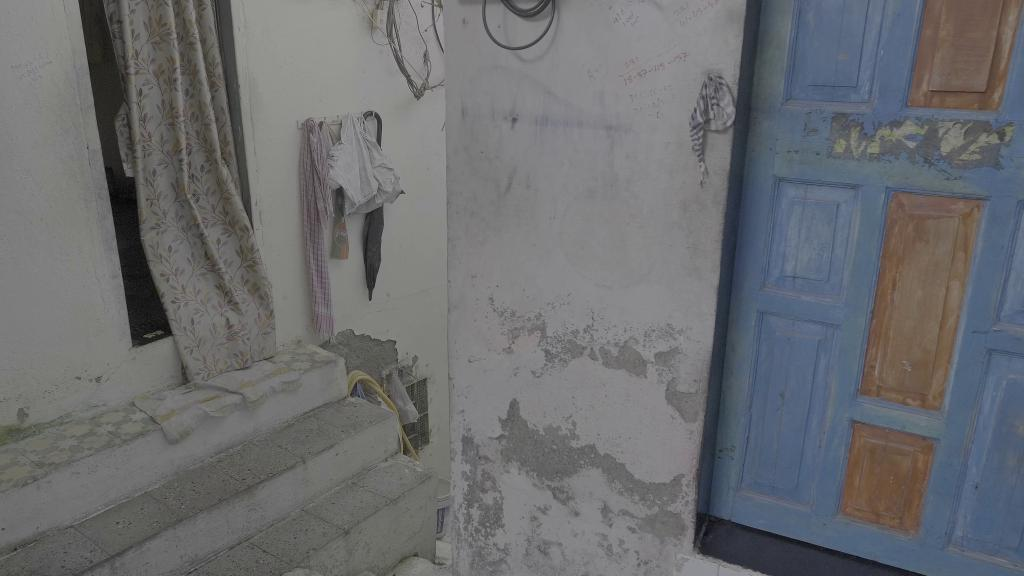garbage: (390, 371, 420, 429)
